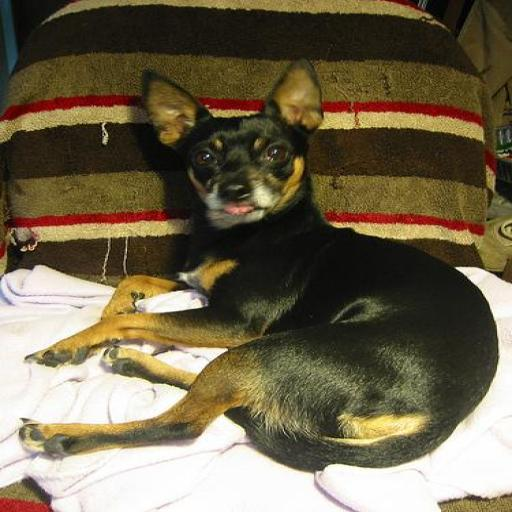dog_face: (134, 62, 323, 223)
